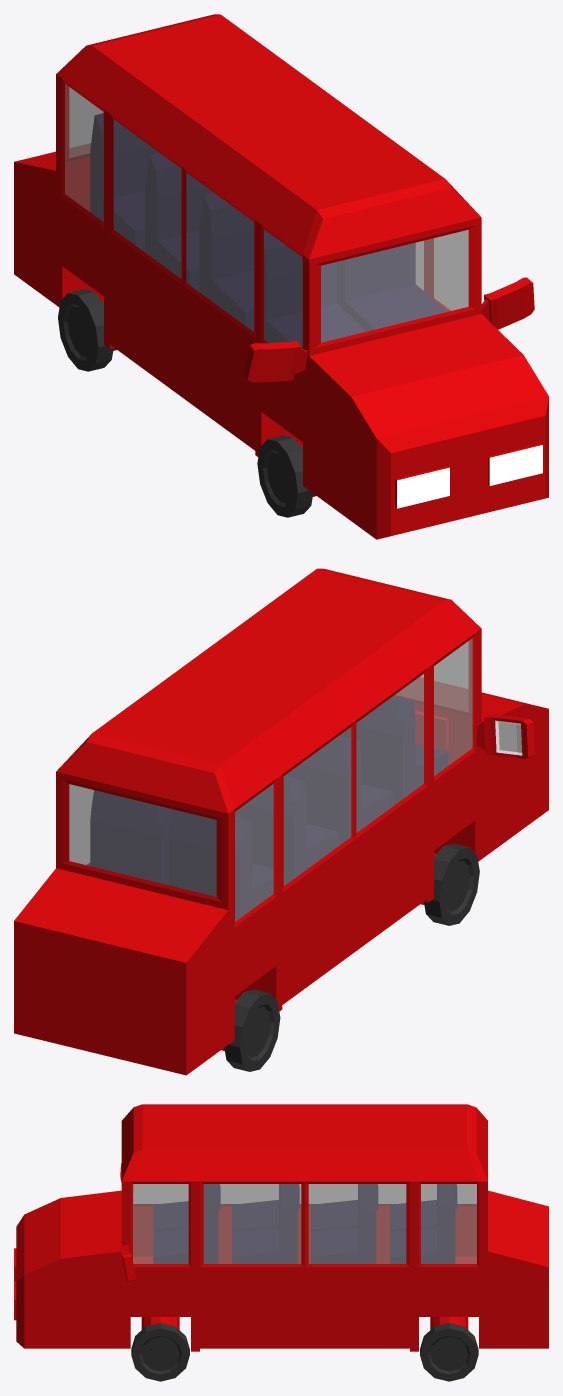
The model's file is cars1.glb.
3 renders of one model, top to bottom at view 1: azimuth 30°, elevation 25°; view 2: azimuth 150°, elevation 25°; view 3: azimuth 270°, elevation 25°, orthographic. The views are drawn at different scales.
Parts seen in each view (by area): view 1: Car1, Car1Tire1, Car1Tire2; view 2: Car1, Car1Tire2, Car1Tire1; view 3: Car1, Car1Tire2, Car1Tire1.
Part boxes in pixels (left/top/right/bottom): Car1: left=14, top=14, right=548, bottom=539; Car1Tire1: left=257, top=435, right=316, bottom=517; Car1Tire2: left=58, top=289, right=116, bottom=371; Car1: left=14, top=568, right=548, bottom=1075; Car1Tire2: left=221, top=989, right=280, bottom=1071; Car1Tire1: left=420, top=843, right=479, bottom=925; Car1: left=14, top=1104, right=548, bottom=1351; Car1Tire2: left=420, top=1317, right=478, bottom=1381; Car1Tire1: left=131, top=1317, right=189, bottom=1381.
Size of the model in its own units: 1.27 by 1.3 by 2.83.
